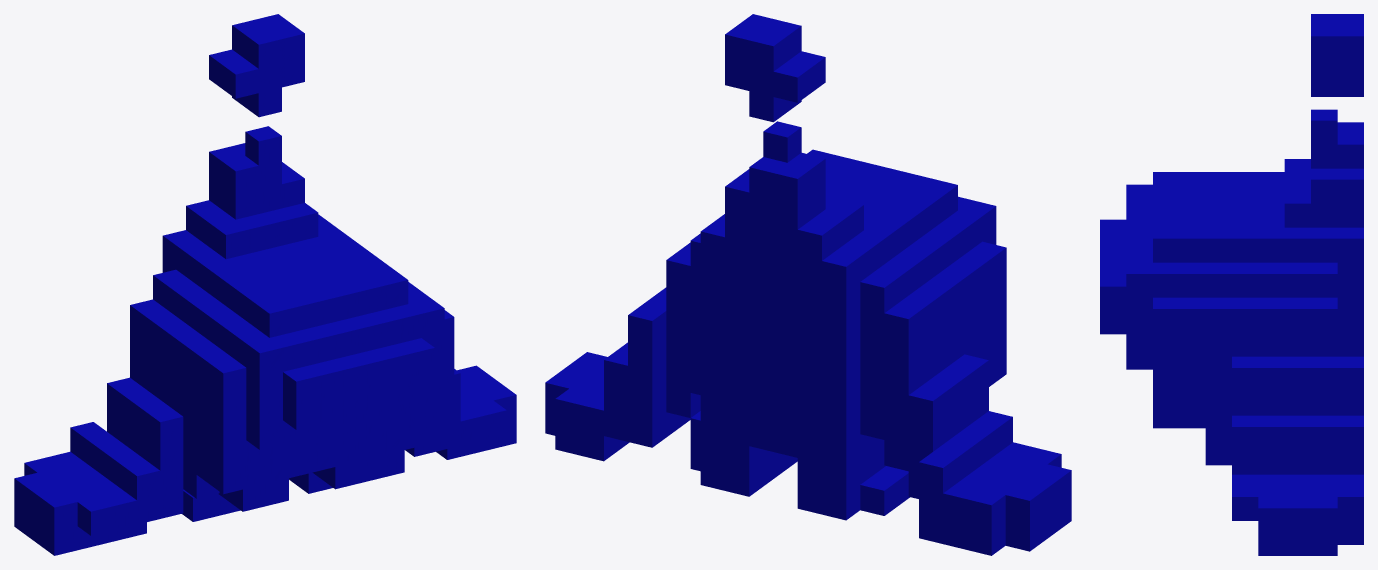
Rendered from mibrim_voxel.glb.
3 renders of one model, left to right at view 1: azimuth 30°, elevation 25°; view 2: azimuth 150°, elevation 25°; view 3: azimuth 270°, elevation 25°, orthographic. The views are drawn at different scales.
Parts seen in each view (by area): view 1: voxelInstance759, voxelInstance640, voxelInstance479, voxelInstance481, voxelInstance562, voxelInstance623, voxelInstance689, voxelInstance745, voxelInstance398, voxelInstance783, voxelInstance404, voxelInstance729 (+77 smaller); view 2: voxelInstance403, voxelInstance478, voxelInstance480, voxelInstance723, voxelInstance773, voxelInstance398, voxelInstance560, voxelInstance59, voxelInstance682, voxelInstance742, voxelInstance781, voxelInstance633 (+133 smaller); view 3: voxelInstance35, voxelInstance37, voxelInstance60, voxelInstance62, voxelInstance97, voxelInstance99, voxelInstance102, voxelInstance150, voxelInstance152, voxelInstance155, voxelInstance157, voxelInstance218 (+81 smaller).
Boxes of the visible parts, x1,y1,x2,y2 form: voxelInstance759: [123, 461, 160, 500]; voxelInstance640: [256, 298, 292, 337]; voxelInstance479: [222, 156, 258, 195]; voxelInstance481: [222, 59, 258, 98]; voxelInstance562: [212, 219, 248, 259]; voxelInstance623: [283, 366, 319, 405]; voxelInstance689: [246, 338, 282, 377]; voxelInstance745: [147, 407, 183, 446]; voxelInstance398: [245, 126, 281, 165]; voxelInstance783: [41, 492, 77, 531]; voxelInstance404: [245, 29, 281, 68]; voxelInstance729: [210, 358, 246, 397]; voxelInstance403: [749, 30, 787, 71]; voxelInstance478: [773, 163, 811, 204]; voxelInstance480: [773, 61, 811, 102]; voxelInstance723: [884, 303, 922, 344]; voxelInstance773: [967, 489, 1005, 530]; voxelInstance398: [763, 121, 801, 162]; voxelInstance560: [797, 219, 835, 260]; voxelInstance59: [628, 305, 666, 346]; voxelInstance682: [860, 272, 898, 313]; voxelInstance742: [908, 385, 946, 426]; voxelInstance781: [1005, 485, 1043, 526]; voxelInstance633: [822, 251, 860, 291]; voxelInstance35: [1311, 415, 1337, 450]; voxelInstance37: [1258, 415, 1284, 450]; voxelInstance60: [1311, 356, 1337, 391]; voxelInstance62: [1258, 356, 1284, 391]; voxelInstance97: [1311, 297, 1337, 332]; voxelInstance99: [1258, 297, 1284, 332]; voxelInstance102: [1179, 297, 1205, 332]; voxelInstance150: [1311, 262, 1337, 297]; voxelInstance152: [1258, 262, 1284, 297]; voxelInstance155: [1179, 262, 1205, 297]; voxelInstance157: [1126, 262, 1152, 297]; voxelInstance218: [1100, 275, 1126, 310].
Size of the model in its own units: 7 by 6.3 by 3.5.
